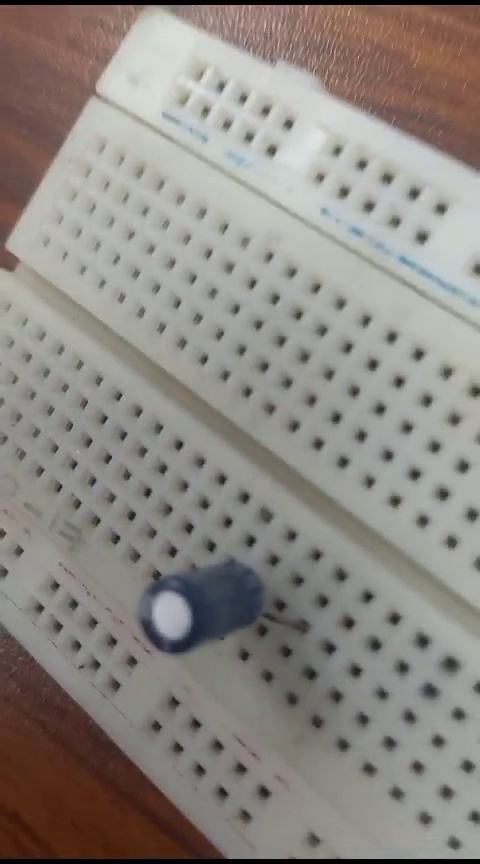capacitor: (120, 556, 304, 663)
